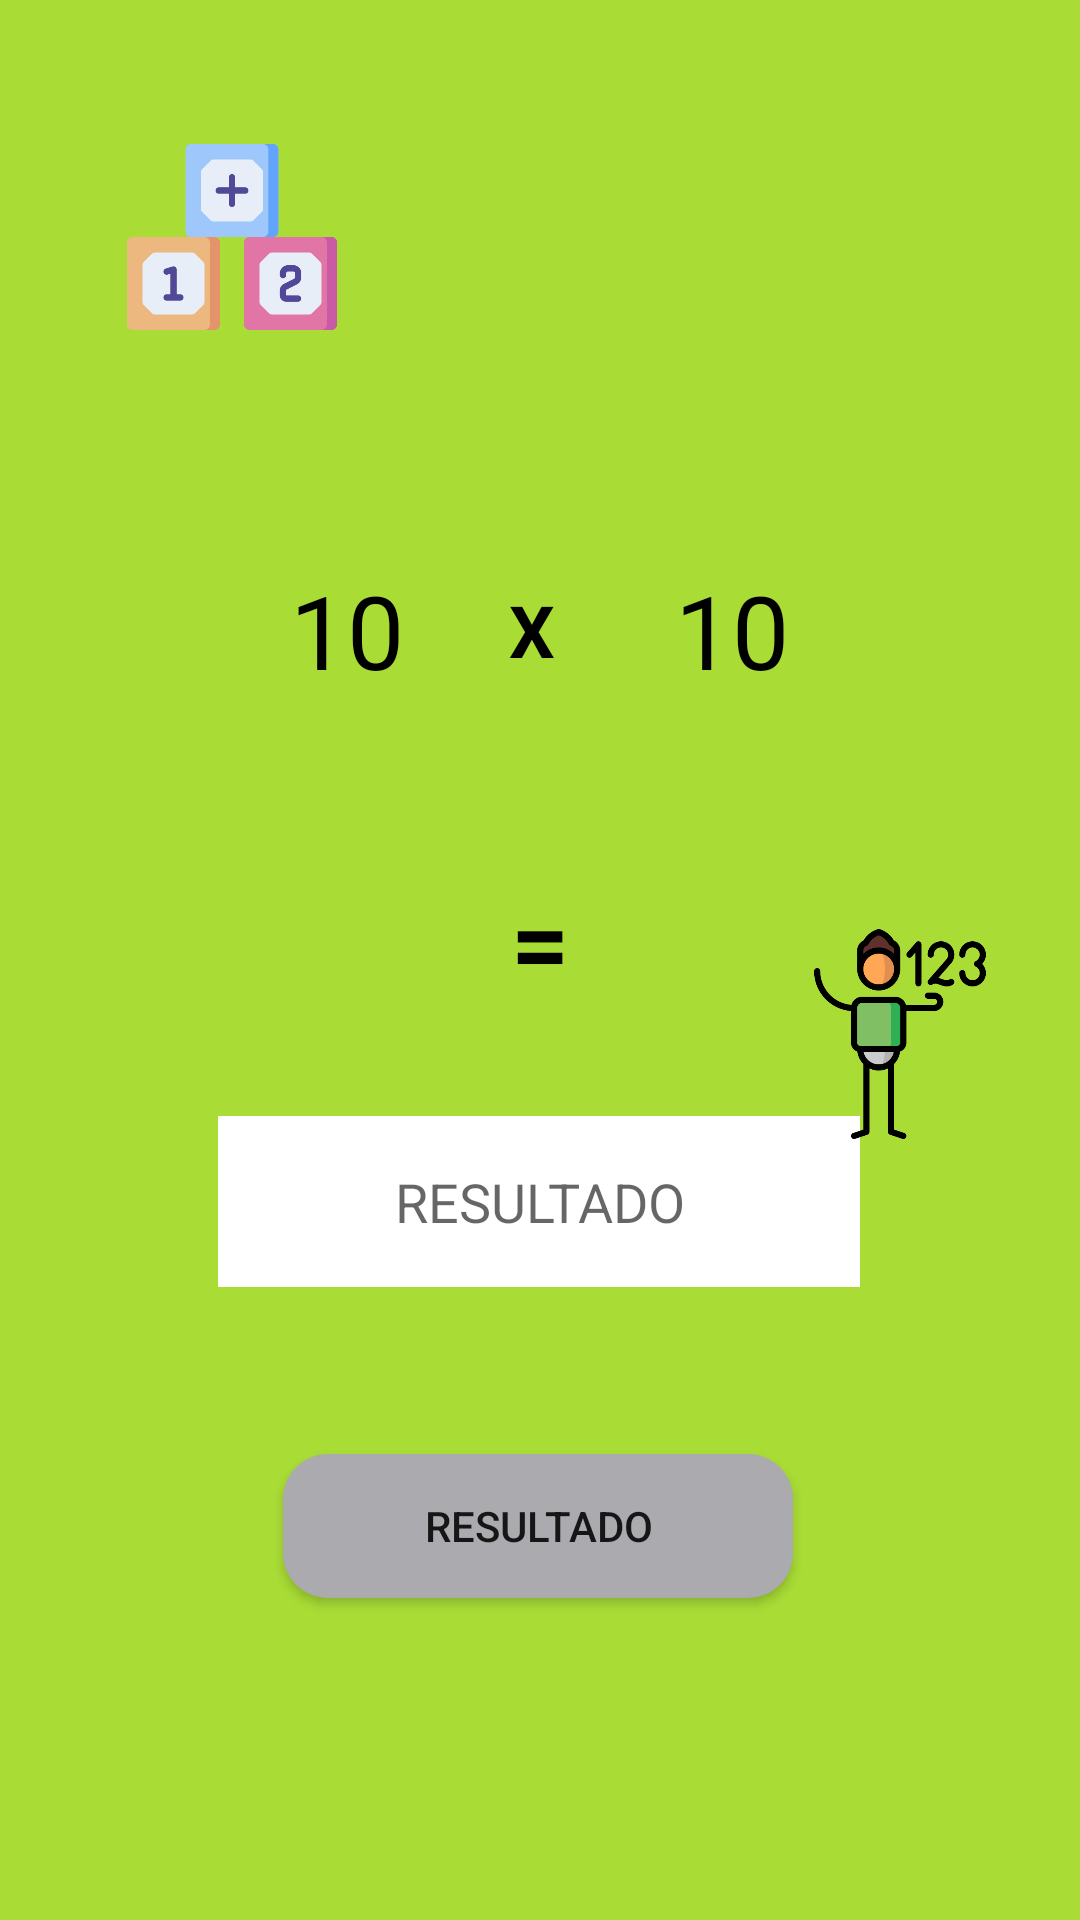

Named icons in this screenshot (1080*1920) and their bounding boxes, box=[x1, y1, x2, y2]:
bloques: box=[127, 144, 337, 330]
numeros: box=[795, 929, 986, 1139]
